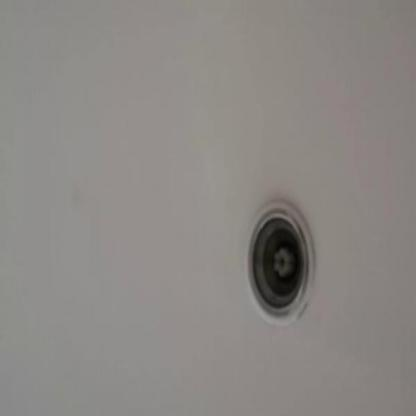light_off: (235, 177, 322, 330)
